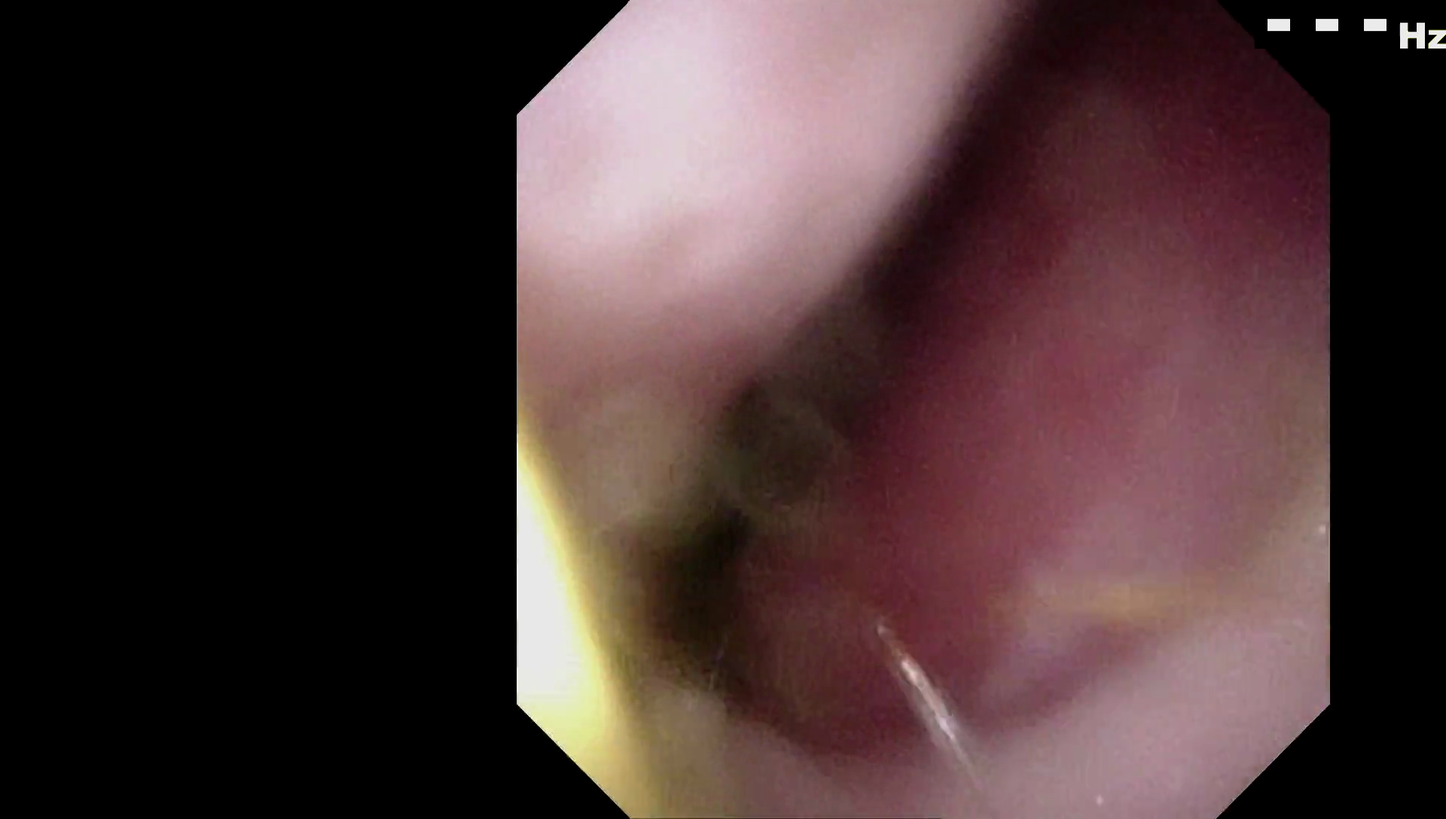close_wall: (576, 72, 864, 288)
next: (837, 4, 1147, 373), (638, 446, 803, 745)
